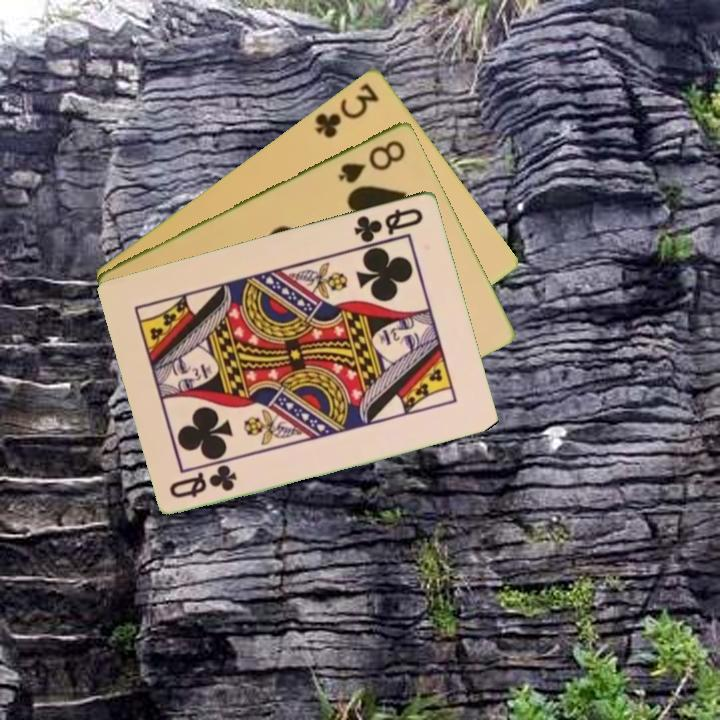3c: (311, 79, 382, 141)
8s: (334, 136, 409, 186)
Qc: (351, 204, 427, 245), (166, 463, 241, 501)
